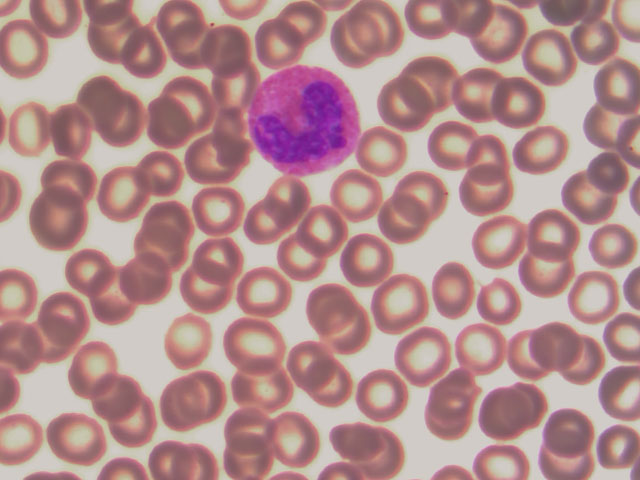RBC: (467, 210, 528, 269), (454, 163, 515, 222), (466, 128, 527, 187), (421, 118, 482, 177), (511, 123, 572, 182), (498, 80, 559, 139), (454, 63, 515, 122), (406, 53, 467, 112), (369, 73, 430, 132), (358, 116, 419, 175), (330, 163, 391, 222), (296, 202, 357, 261), (269, 231, 330, 290), (263, 171, 324, 230), (222, 199, 283, 258), (191, 184, 252, 243), (192, 227, 253, 286), (176, 264, 237, 323), (240, 266, 301, 325), (227, 314, 288, 373), (300, 278, 361, 337), (316, 297, 377, 356), (369, 275, 430, 334), (425, 263, 486, 322), (464, 274, 525, 333), (372, 192, 433, 251), (394, 164, 455, 223), (516, 249, 577, 308), (521, 205, 582, 264), (579, 219, 640, 278), (555, 171, 616, 230), (573, 144, 634, 203), (579, 95, 640, 154), (579, 55, 640, 114), (522, 26, 583, 85), (562, 14, 623, 73), (469, 5, 530, 64), (320, 12, 381, 71), (278, 2, 339, 61), (249, 18, 310, 77), (206, 19, 267, 78), (156, 2, 217, 61), (120, 24, 181, 83), (84, 10, 145, 69), (2, 99, 63, 158), (43, 99, 104, 158), (76, 76, 137, 135), (103, 94, 164, 153), (133, 93, 194, 152), (159, 73, 220, 132), (192, 125, 253, 184), (127, 141, 188, 200), (96, 165, 157, 224), (29, 194, 90, 253), (37, 152, 98, 211), (60, 240, 121, 299), (87, 267, 148, 326), (107, 247, 168, 306), (130, 222, 191, 281), (135, 196, 196, 255), (157, 312, 218, 371), (166, 361, 227, 420), (155, 382, 216, 441), (110, 394, 171, 453), (86, 376, 147, 435), (68, 342, 129, 401), (41, 287, 102, 346), (31, 318, 92, 377), (58, 411, 119, 470), (221, 397, 282, 456), (264, 412, 325, 471), (233, 361, 294, 420), (282, 333, 343, 392), (296, 354, 357, 413), (353, 369, 414, 428), (339, 421, 400, 480), (394, 330, 455, 389), (451, 316, 512, 375), (420, 373, 481, 432), (477, 389, 538, 448), (539, 402, 600, 461), (540, 421, 601, 480), (579, 421, 640, 480), (579, 364, 640, 423), (559, 334, 620, 393), (529, 322, 590, 381), (499, 329, 560, 388), (579, 305, 640, 364), (568, 269, 629, 328), (1, 15, 61, 74), (406, 1, 467, 59), (347, 1, 408, 59)
WBC: (249, 67, 356, 176)
